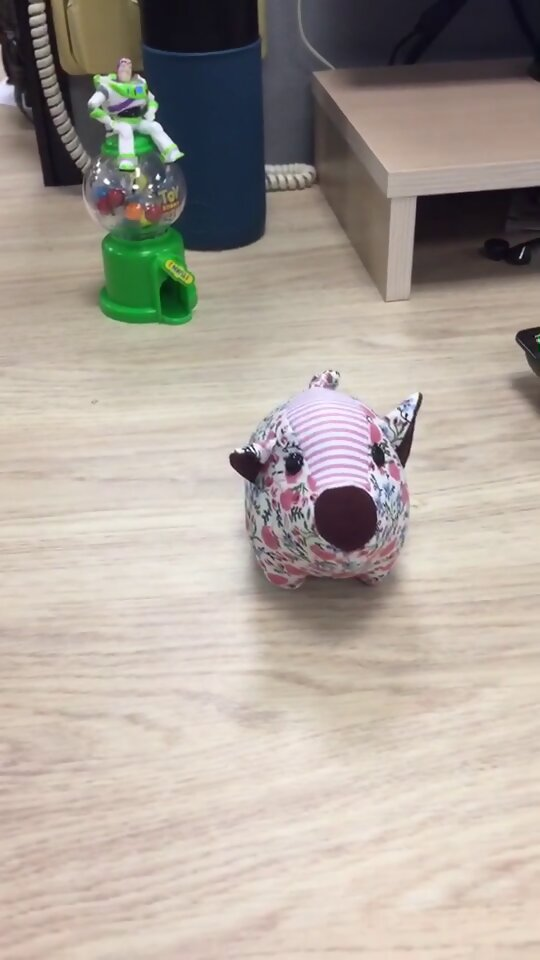pig: (224, 369, 426, 593)
